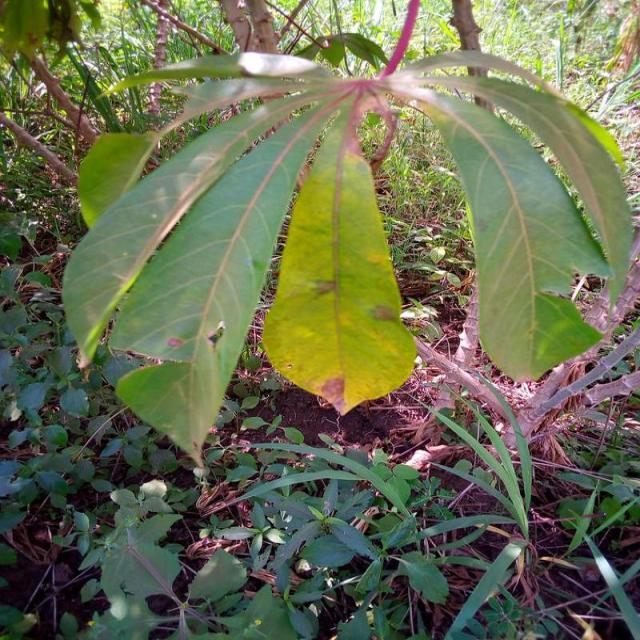cassava leaf: (61, 1, 633, 468), (410, 82, 616, 383), (260, 115, 418, 416)
